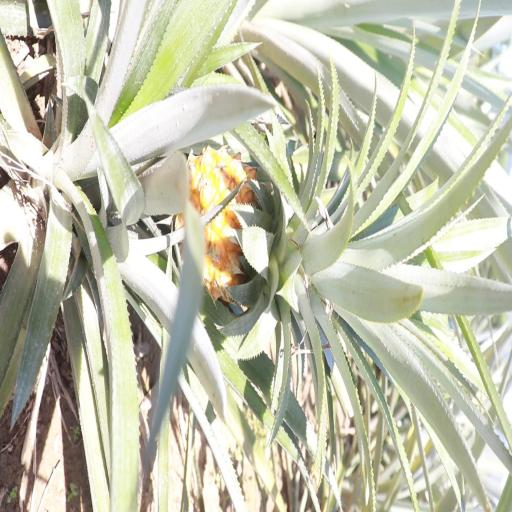Pineapple - v8 v1: (183, 139, 423, 323)
